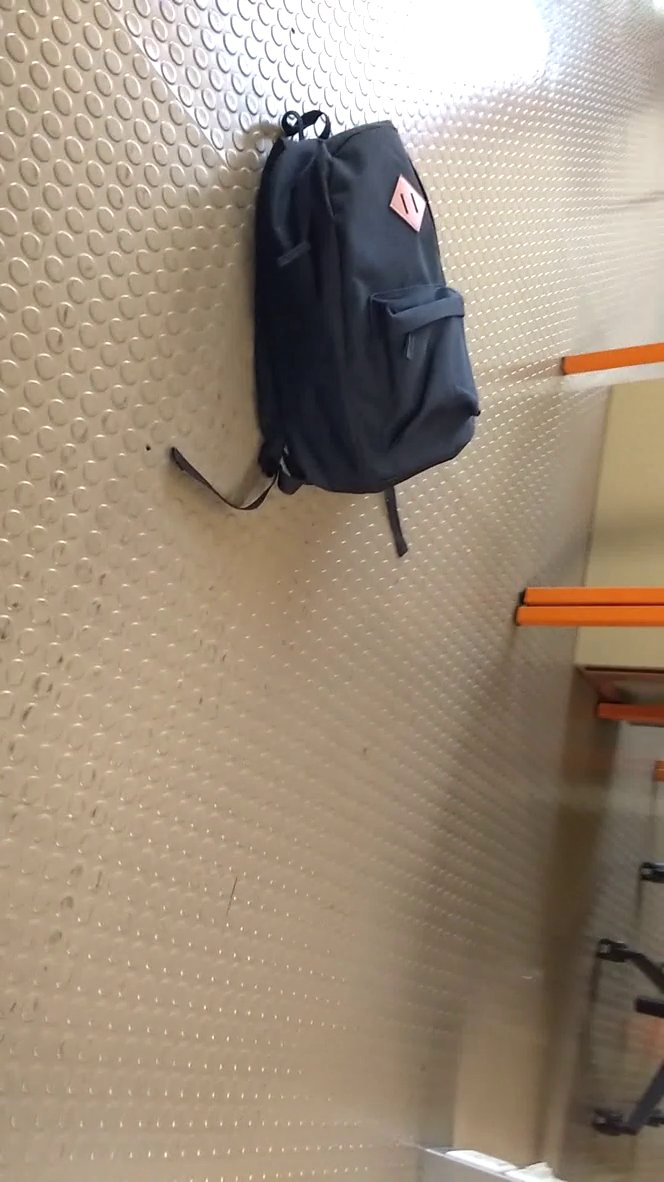bag: (168, 95, 487, 585)
